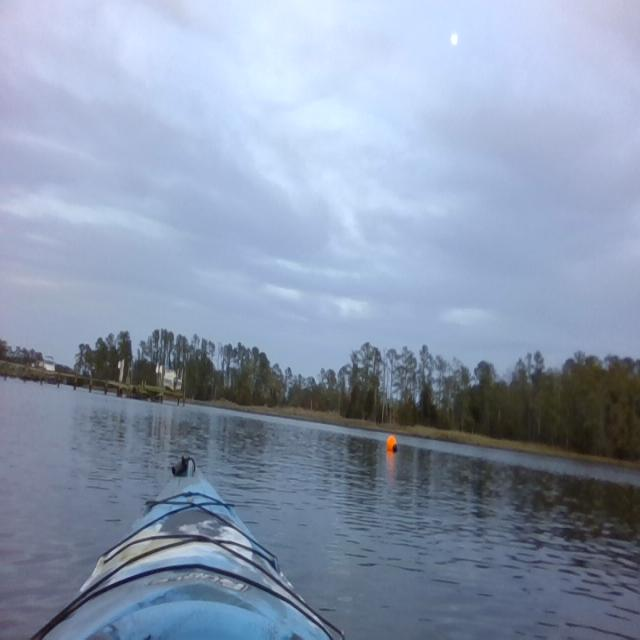Buoy: (385, 433, 399, 454)
